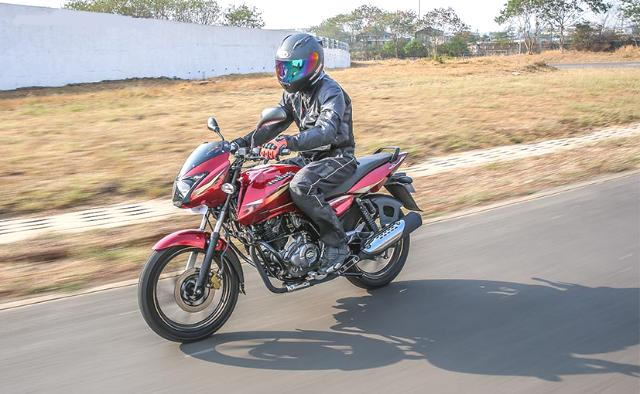motorcycle: (134, 33, 408, 344)
withHelmet: (267, 35, 334, 94)
